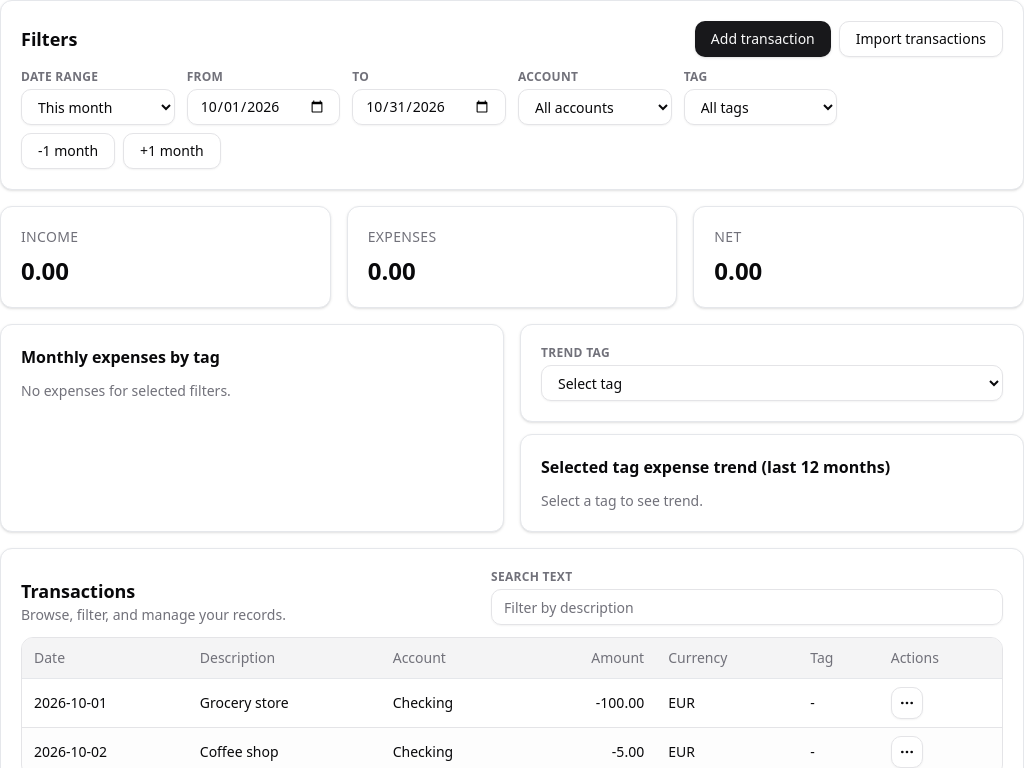
Test: TransactionsPage row actions menu › portals the actions menu outside the table overflow wrapper on the last row
The width and height of the screenshot is (1024, 768).
Click the button named "Open actions menu" in the row of "2026-10-02".
click(907, 752)  # box [891,736,923,767]
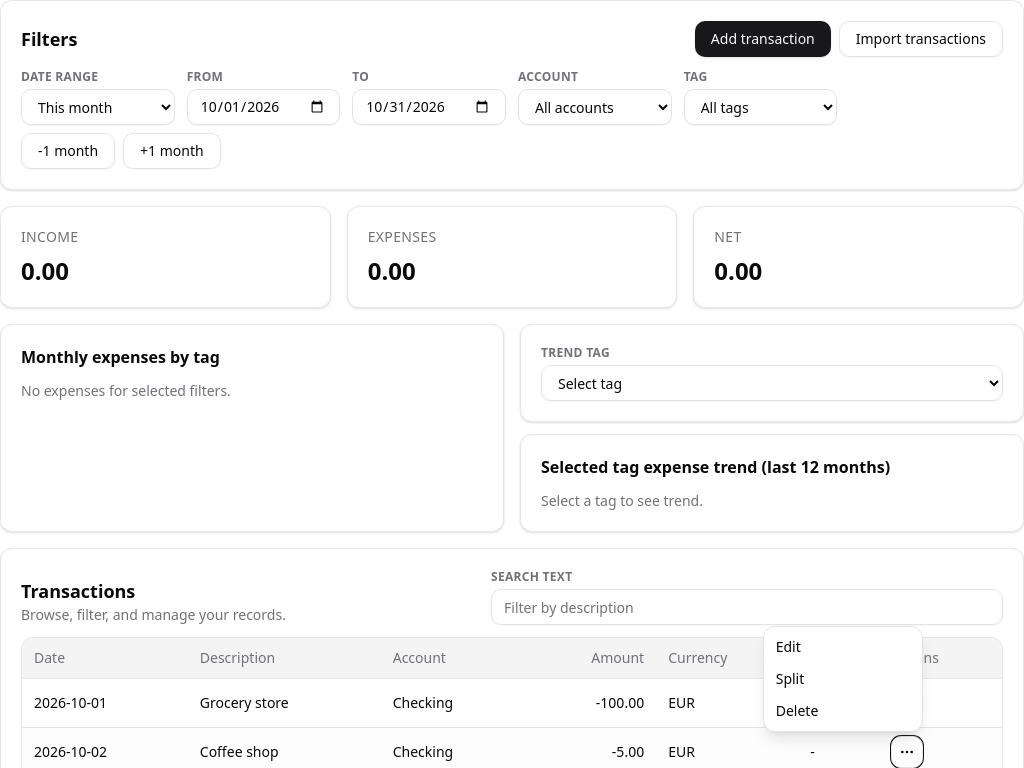
Check: the menu is shown, box [763,626,923,732]
Check: the button "Edit" is shown, box [768,630,918,662]
